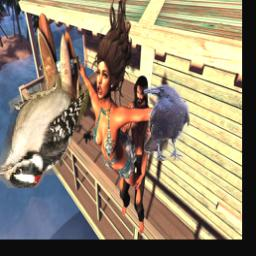Crow: (144, 85, 190, 162)
Woodpecker: (0, 76, 89, 189)
